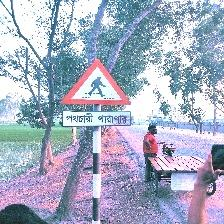Pedestrian-crossing: (60, 60, 132, 128)
